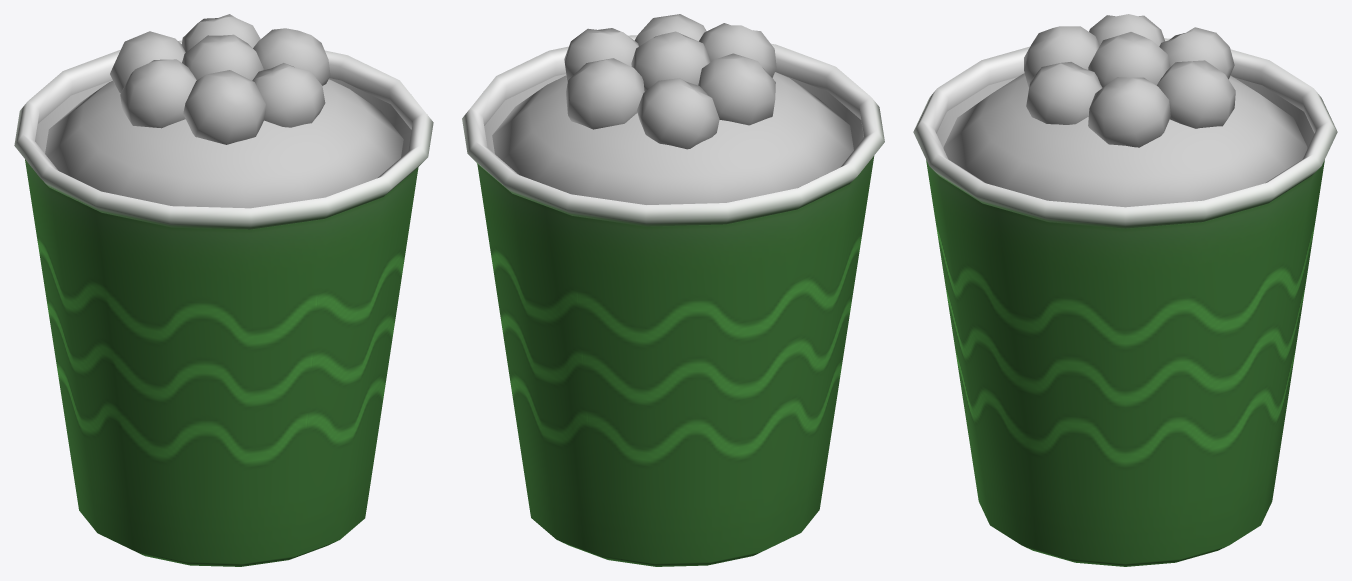
File: 011-Parfait_05.FBX
3 renders of one model, left to right at view 1: azimuth 30°, elevation 25°; view 2: azimuth 150°, elevation 25°; view 3: azimuth 270°, elevation 25°, orthographic.
Parts seen in each view (by area): view 1: 011-Parfait_05-2, 011-Parfait_05-1; view 2: 011-Parfait_05-2, 011-Parfait_05-1; view 3: 011-Parfait_05-2, 011-Parfait_05-1.
Boxes of the visible parts, x1,y1,x2,y2 form: 011-Parfait_05-2: (14,40,433,566); 011-Parfait_05-1: (45,14,403,208); 011-Parfait_05-2: (462,35,884,566); 011-Parfait_05-1: (492,14,853,204); 011-Parfait_05-2: (913,38,1337,566); 011-Parfait_05-1: (943,14,1307,207).
Size of the model in its own units: 14.13 by 17.4 by 14.13.
